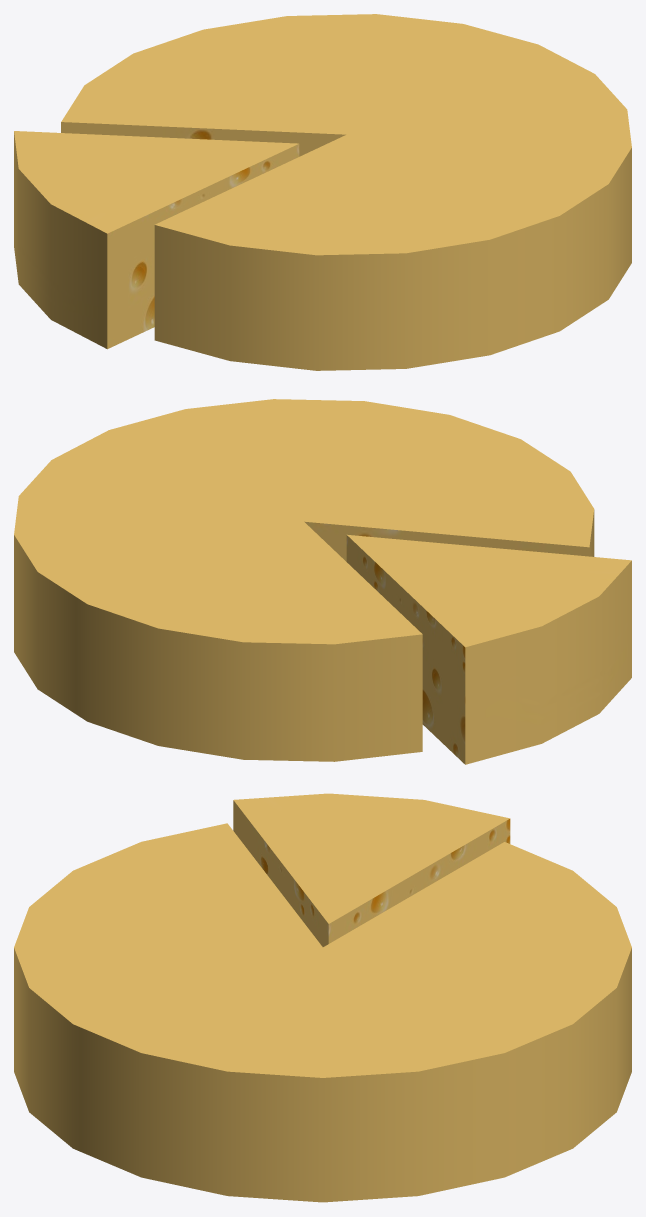
File: Cheese2.obj
3 renders of one model, top to bottom at view 1: azimuth 30°, elevation 25°; view 2: azimuth 150°, elevation 25°; view 3: azimuth 270°, elevation 25°, orthographic. The views are drawn at different scales.
Visible parts, largest first — view 1: pCylinder2; view 2: pCylinder2; view 3: pCylinder2.
Boxes of the visible parts, bbox=[...] form: pCylinder2: bbox=[14, 14, 631, 370]; pCylinder2: bbox=[14, 399, 631, 764]; pCylinder2: bbox=[14, 793, 631, 1202].
Bounding box in the file's own units: 2.18 × 0.4444 × 2.
2 materials, 2 textured.
